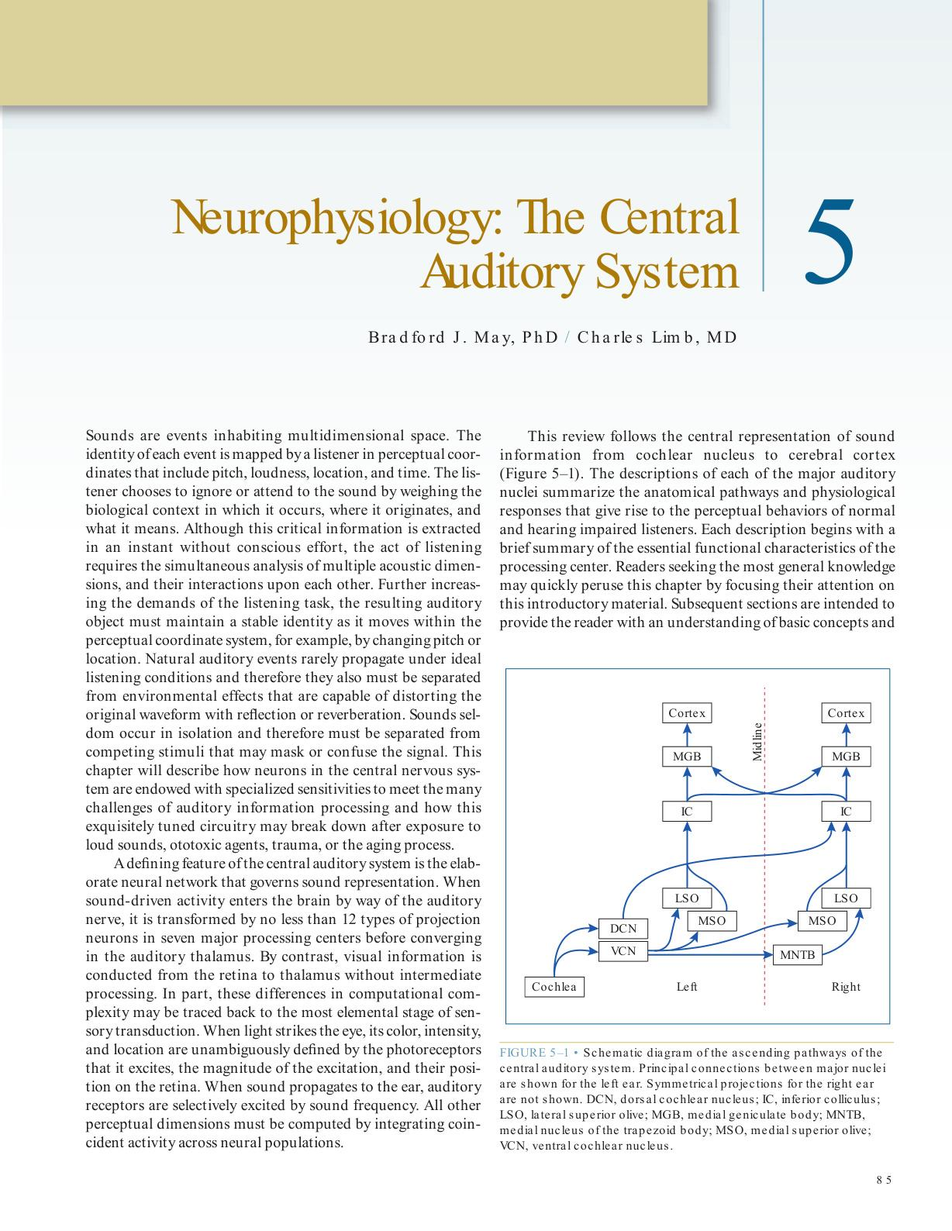caption: (498, 1044, 887, 1153)
chapter-heading: (165, 183, 745, 303)
image: (510, 672, 886, 1019)
text: (83, 422, 484, 1150), (496, 424, 898, 635)
